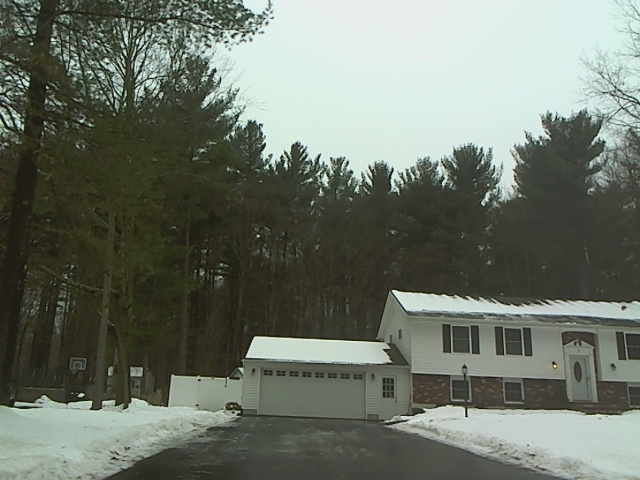Ploughed: (196, 414, 456, 479)
